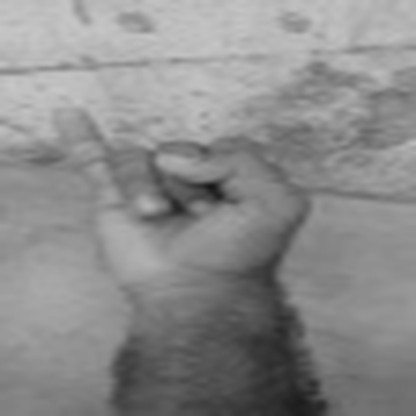i: (43, 96, 319, 296)
